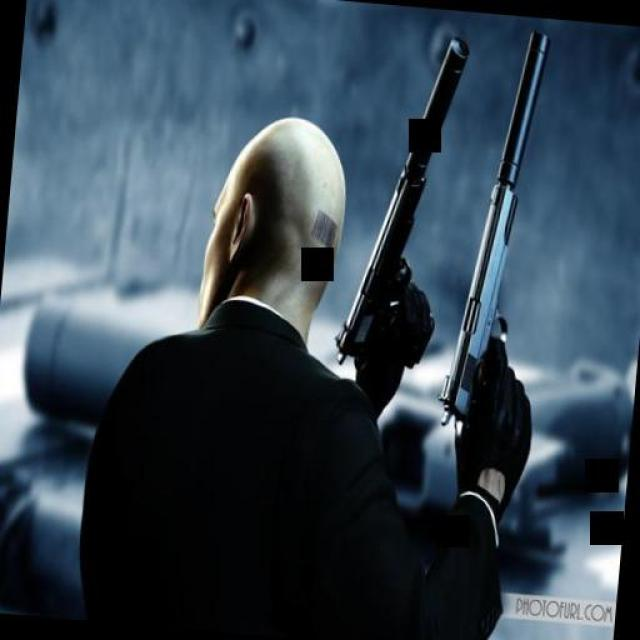gun: (431, 20, 565, 451), (328, 25, 478, 374)
